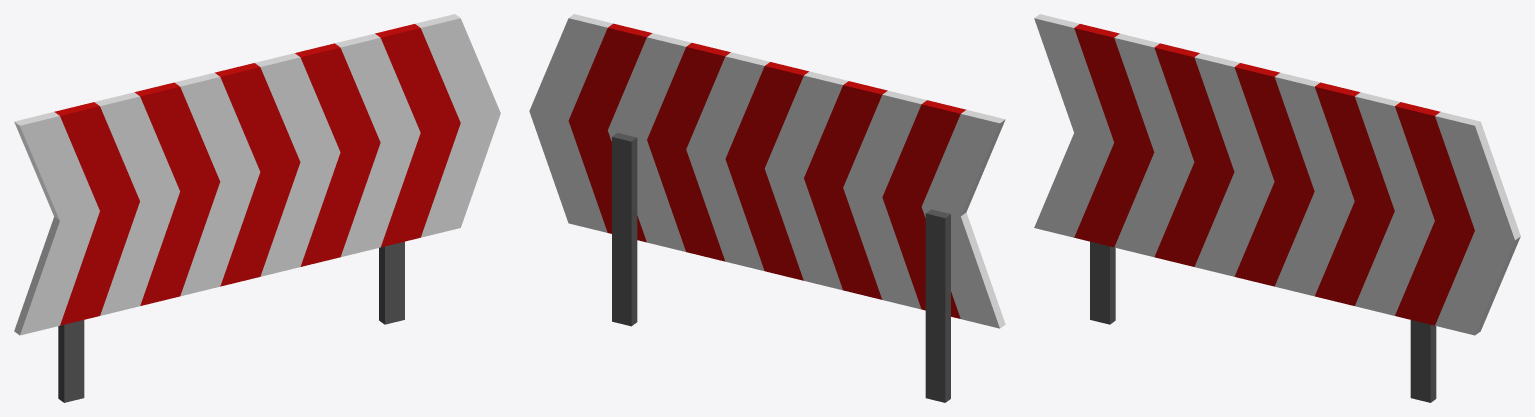
The model's file is signRedWhite.glb.
The picture shows the model from 3 angles, left to right: view 1: azimuth 30°, elevation 25°; view 2: azimuth 150°, elevation 25°; view 3: azimuth 330°, elevation 25°; orthographic projection. The views are drawn at different scales.
Visible parts, largest first — view 1: Sign_free; view 2: Sign_free; view 3: Sign_free.
Part boxes in pixels (x1,y1,x2,y2): Sign_free: (14,14,500,402); Sign_free: (529,14,1005,402); Sign_free: (1034,14,1520,402).
Bounding box in the file's own units: 2.4 × 1.4 × 0.1.
Materials: 1 (1 with a texture image).
